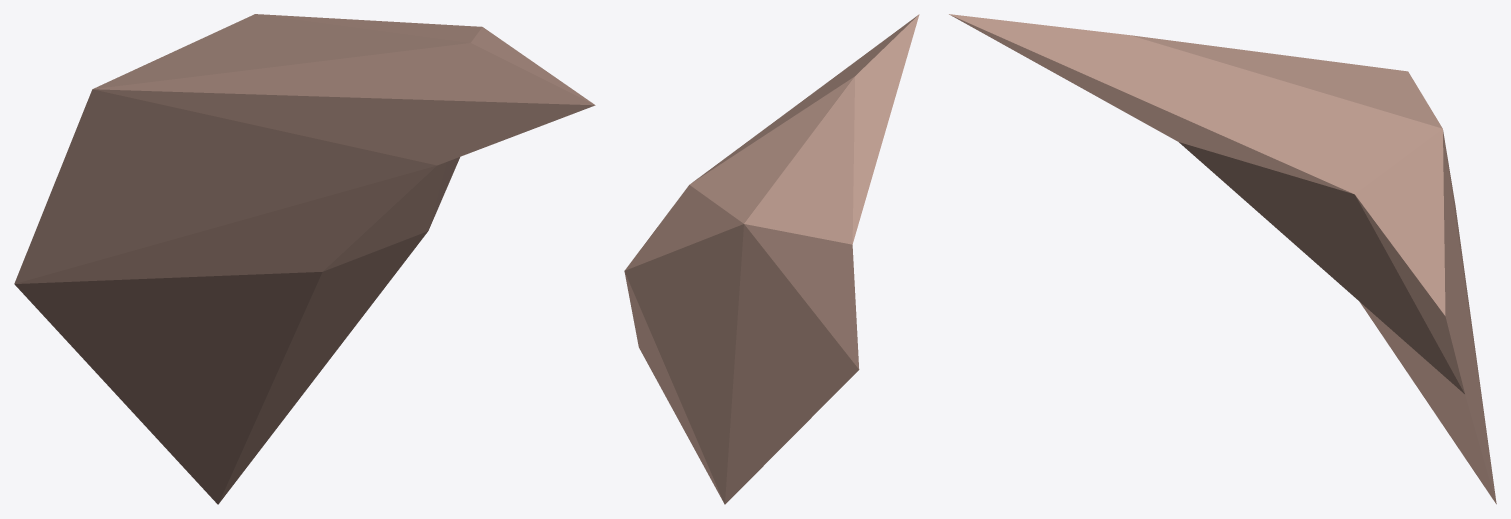
The model's file is Columnella.obj.
3 renders of one model, left to right at view 1: azimuth 30°, elevation 25°; view 2: azimuth 150°, elevation 25°; view 3: azimuth 270°, elevation 25°, orthographic. The views are drawn at different scales.
Visible parts, largest first — view 1: Musculos_Cabeza_1:Columnella:Columnella; view 2: Musculos_Cabeza_1:Columnella:Columnella; view 3: Musculos_Cabeza_1:Columnella:Columnella.
Boxes of the visible parts, x1,y1,x2,y2 form: Musculos_Cabeza_1:Columnella:Columnella: [14, 14, 595, 504]; Musculos_Cabeza_1:Columnella:Columnella: [624, 14, 919, 504]; Musculos_Cabeza_1:Columnella:Columnella: [949, 14, 1496, 504].
Size of the model in its own units: 0.0372 by 0.052 by 0.0527.
